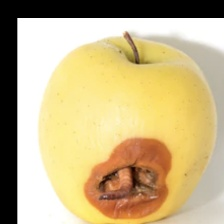apple: (5, 32, 188, 192)
